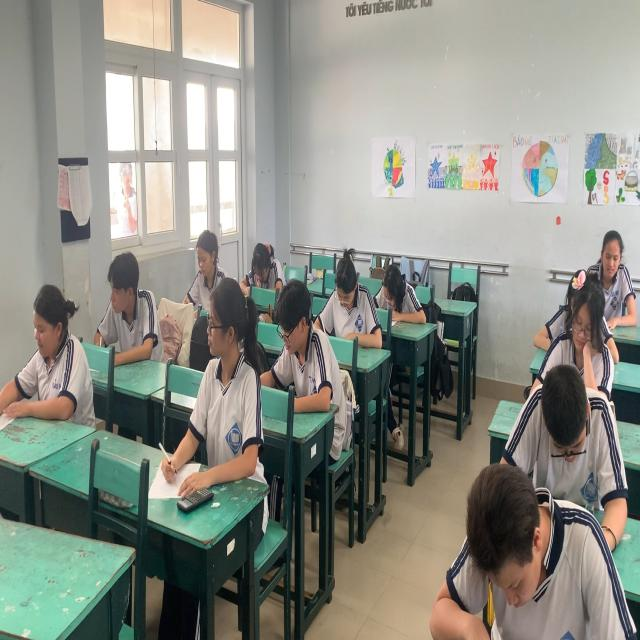cheating: (198, 277, 262, 472)
not_cheating: (452, 444, 602, 639), (15, 281, 99, 434), (525, 356, 608, 491), (274, 274, 330, 414), (103, 257, 159, 368), (328, 242, 374, 345), (564, 284, 609, 389), (594, 220, 634, 322), (379, 251, 420, 336), (191, 227, 220, 299), (248, 235, 278, 301)
